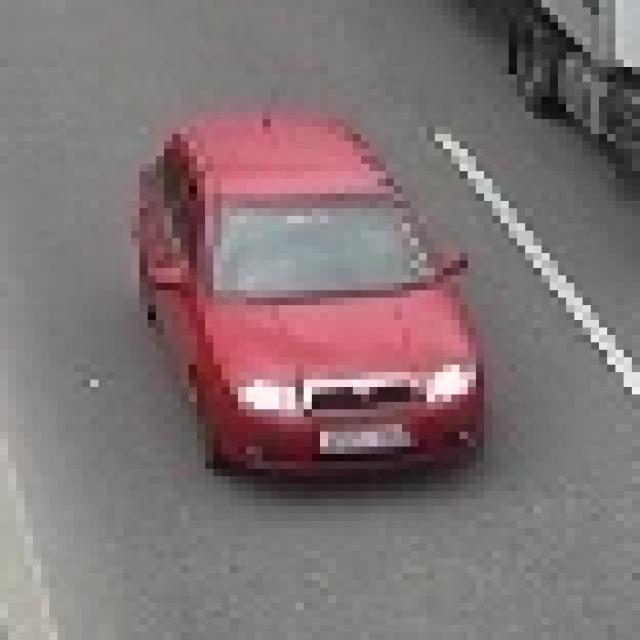red: (147, 120, 491, 484)
